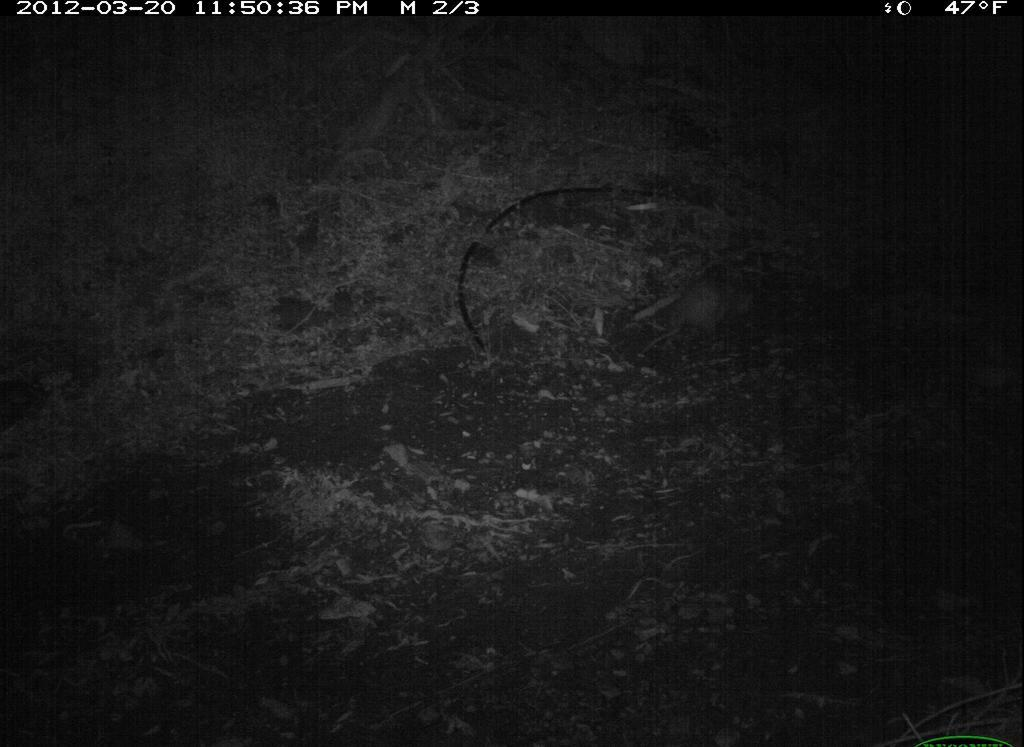opossum: (651, 270, 757, 357)
